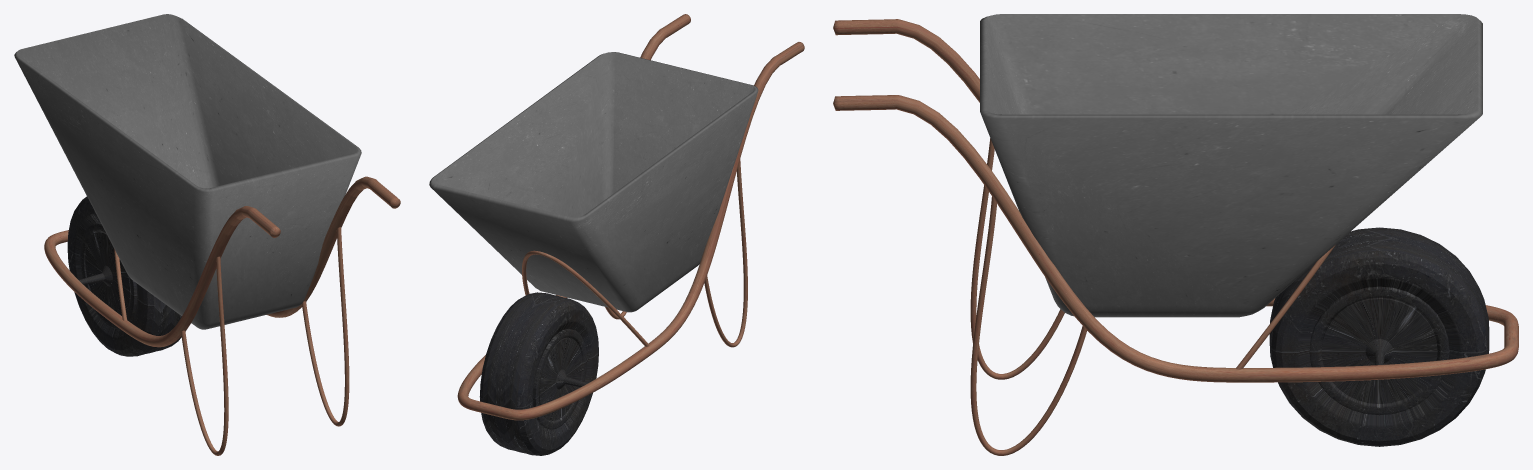
3 renders of one model, left to right at view 1: azimuth 30°, elevation 25°; view 2: azimuth 150°, elevation 25°; view 3: azimuth 270°, elevation 25°, orthographic. The views are drawn at different scales.
Parts seen in each view (by area): view 1: 容器, 支架, 轮子; view 2: 容器, 轮子, 支架; view 3: 容器, 轮子, 支架.
Boxes of the visible parts, bbox=[...] form: 容器: bbox=[14, 14, 361, 329]; 支架: bbox=[44, 176, 400, 455]; 轮子: bbox=[67, 196, 181, 356]; 容器: bbox=[429, 52, 758, 312]; 轮子: bbox=[479, 292, 598, 455]; 支架: bbox=[457, 14, 804, 420]; 容器: bbox=[980, 14, 1482, 317]; 轮子: bbox=[1269, 227, 1489, 446]; 支架: bbox=[833, 19, 1518, 455].
Size of the model in its own units: 0.8425 by 1.42 by 2.34.
Materials: 3 (3 with a texture image).
